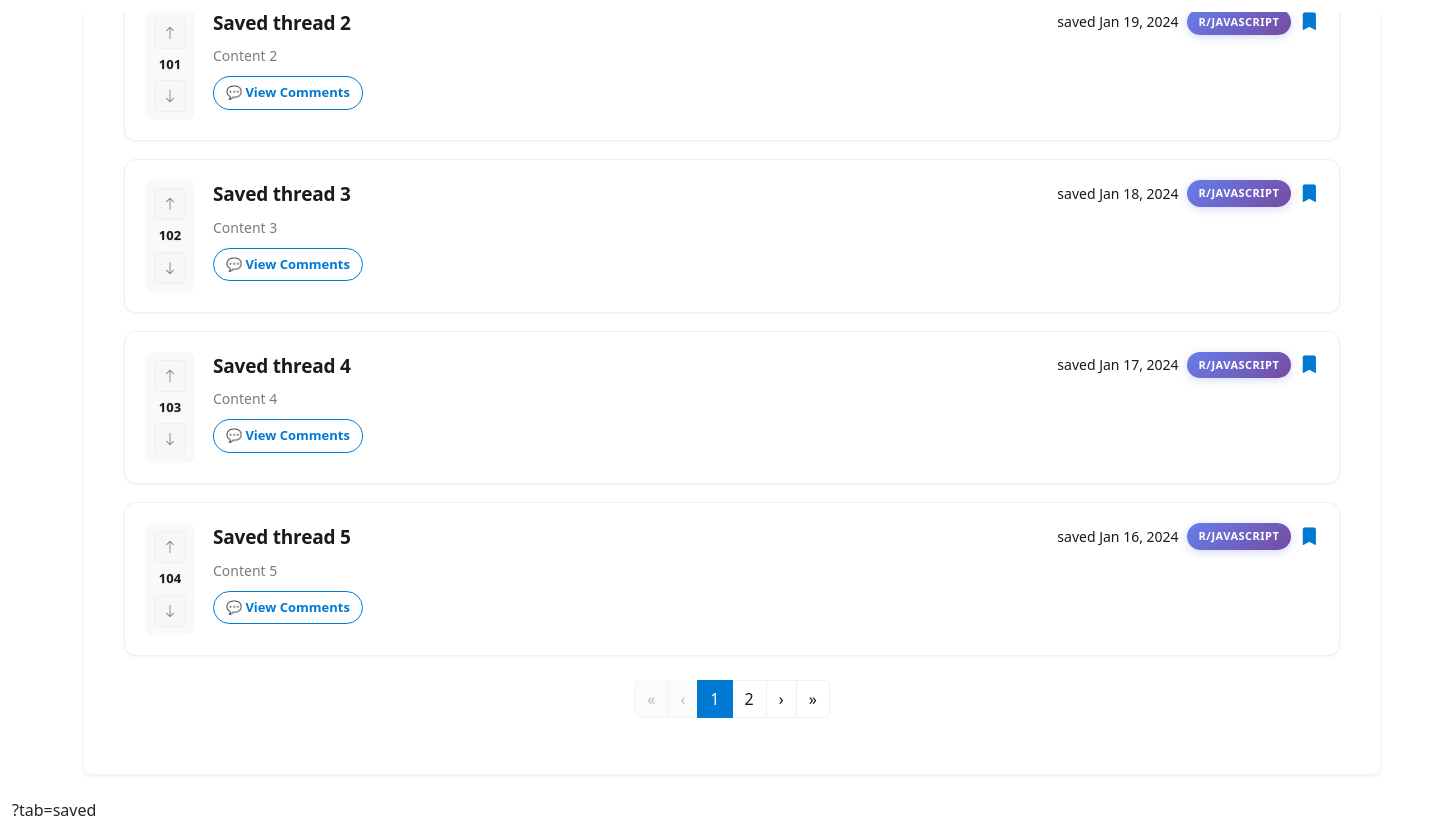
Scenario: Profile Saved tab › paginates at 5 per page and steps back a page when its last thread is unsaved
(page scrolled)
Click the button "2".
click(749, 698)  # box [732,680,767,718]
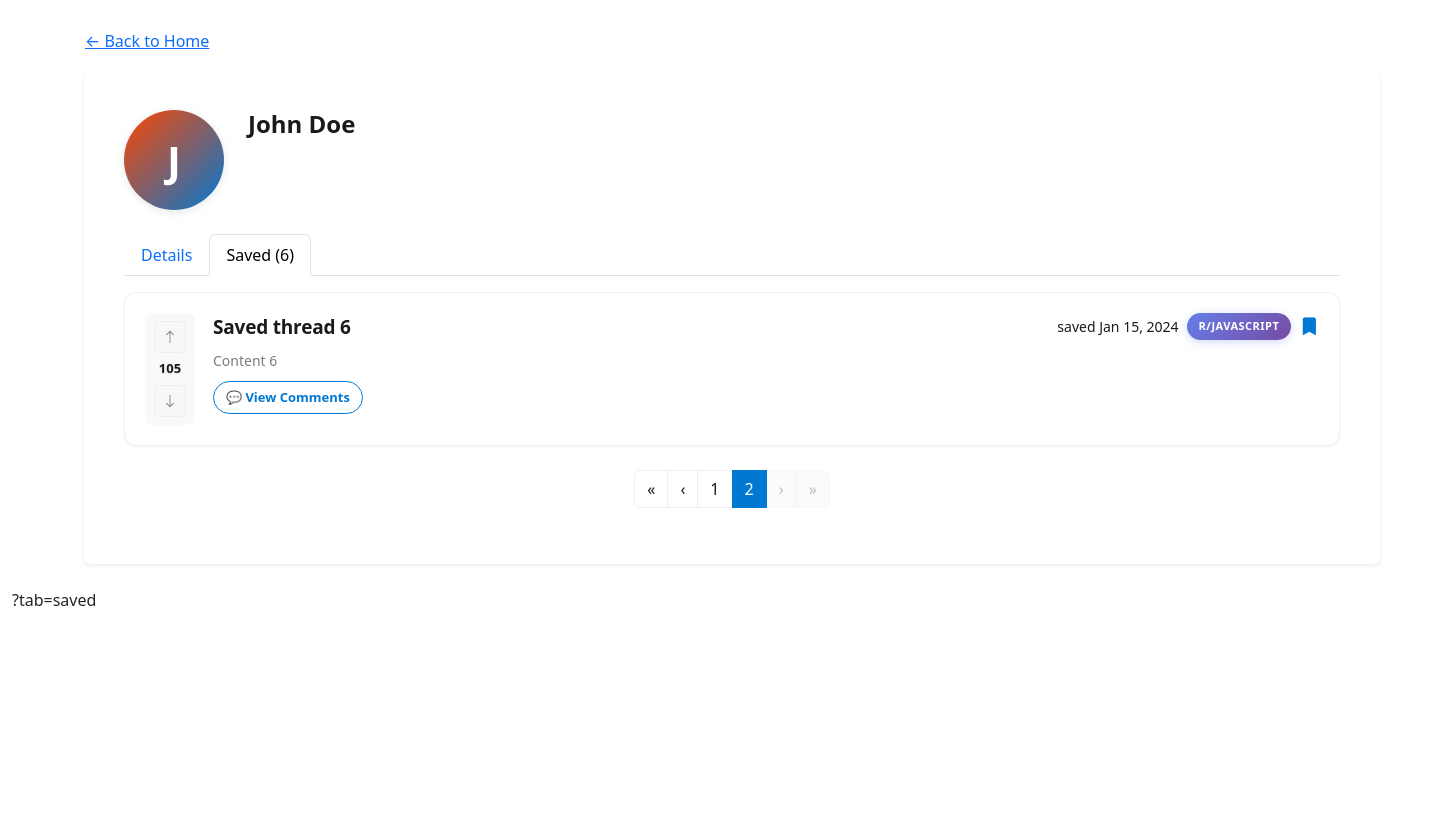
Click the button named "Unsave thread".
click(1309, 326)  # box [1299,316,1319,336]
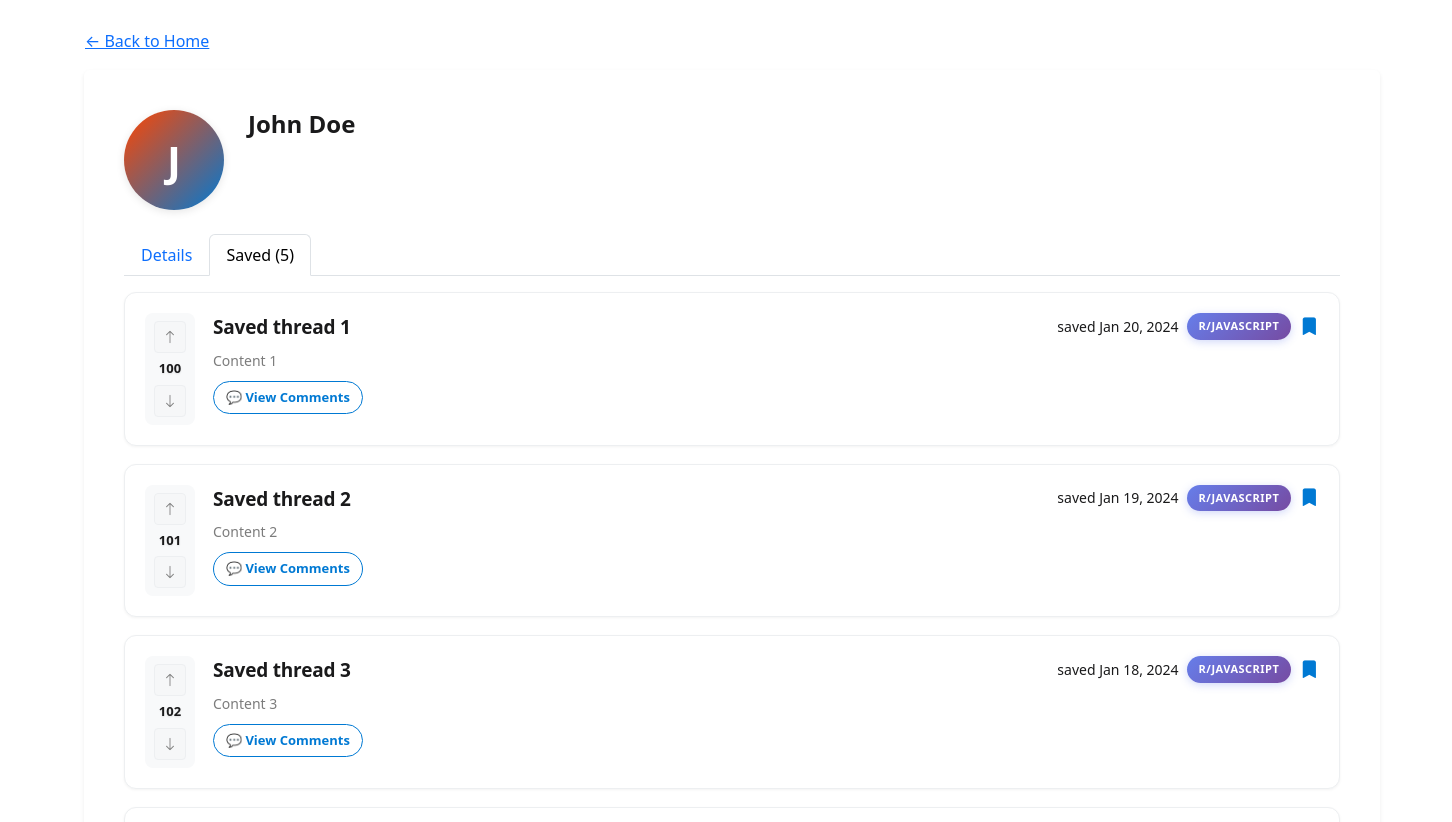
Expected: the heading "Saved thread 1" is shown, [213,313,351,342]
Expected: the tab "Saved (5)" is shown, [209,234,311,276]
